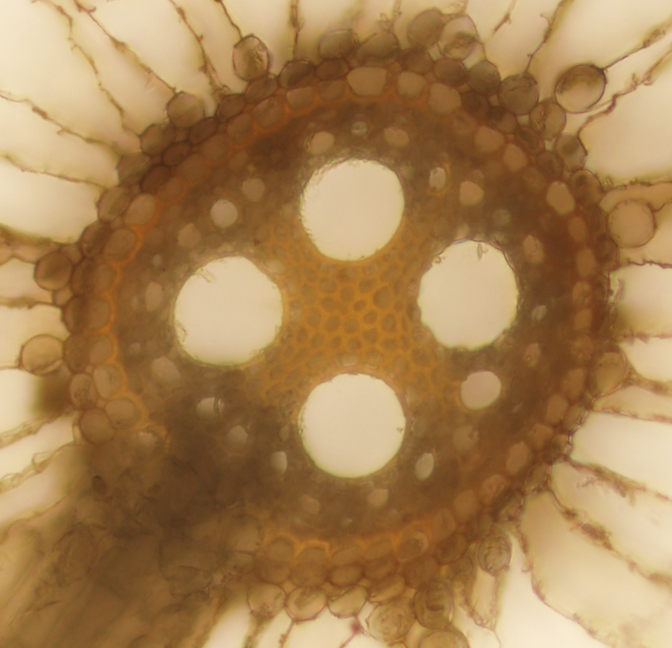lm: (172, 255, 284, 367), (417, 238, 519, 352), (296, 373, 407, 477), (299, 155, 404, 263)
